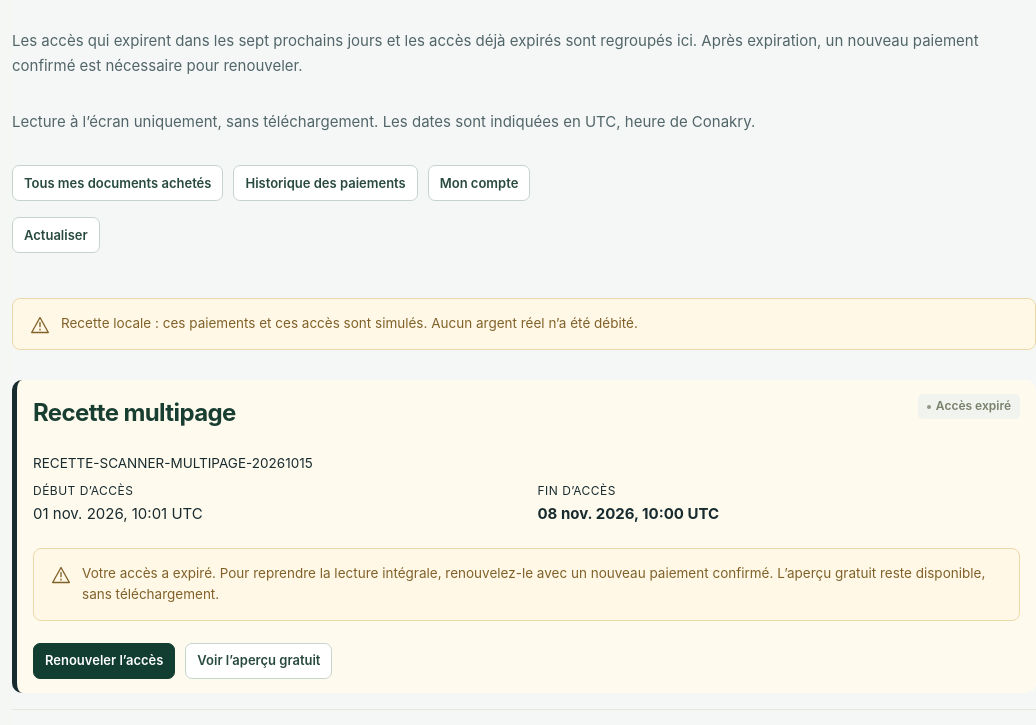
Test: le rappel disparaît après confirmation serveur du renouvellement
Click the button "Renouveler l’accès".
click(104, 661)  # box [33, 643, 175, 679]
(page scrolled)
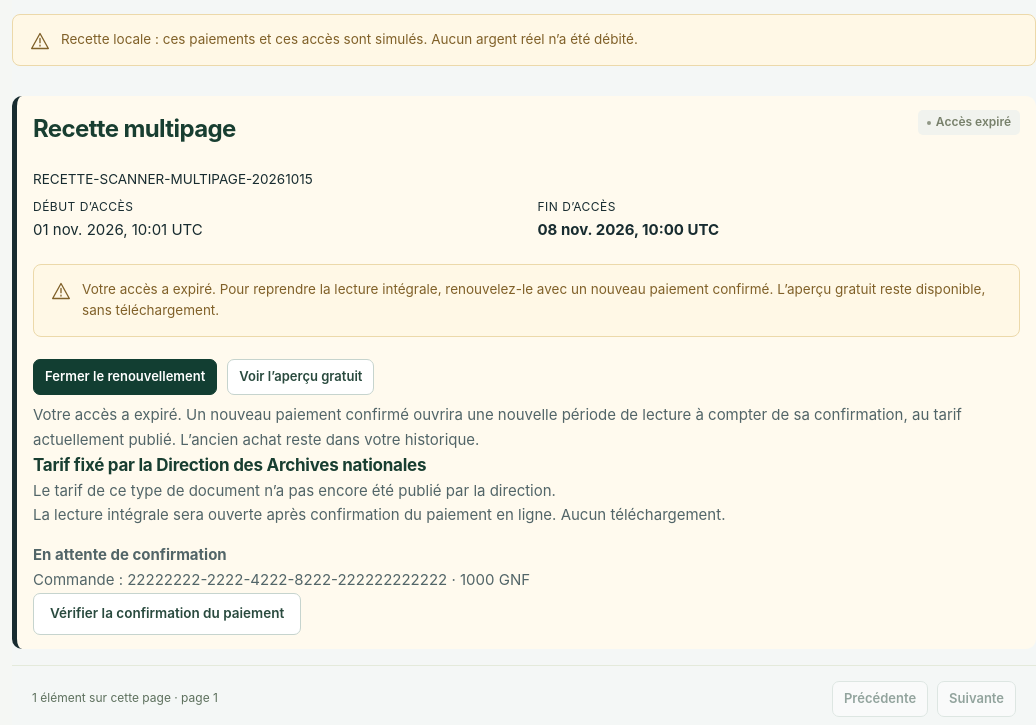
Click the button "Vérifier la confirmation du paiement".
click(167, 614)  # box [33, 593, 301, 635]
(page scrolled)
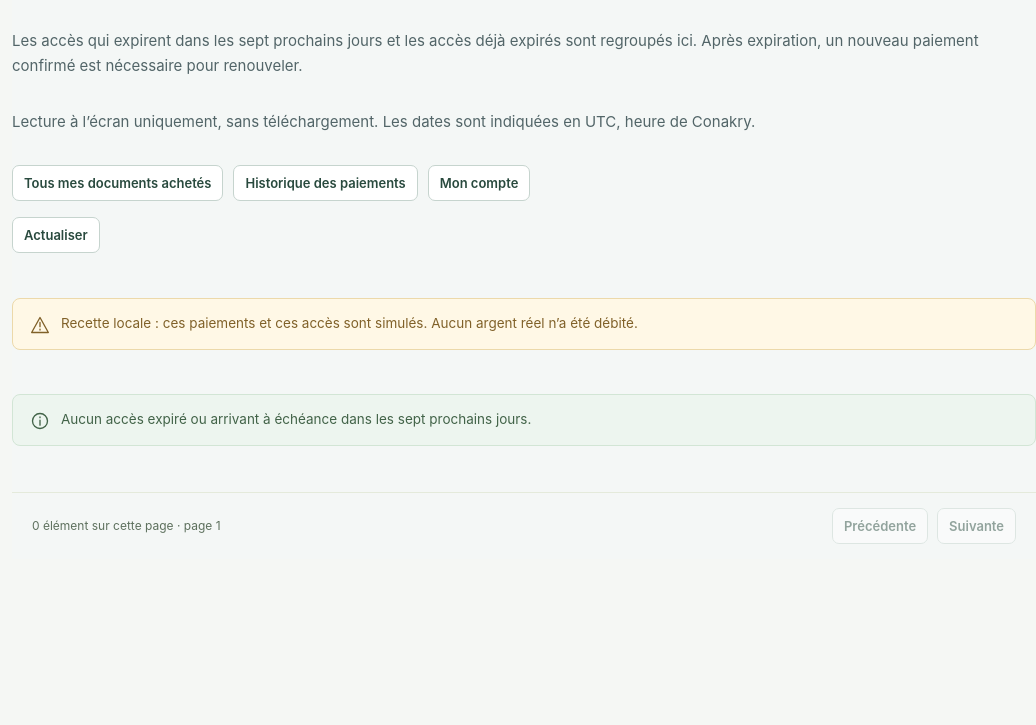
Expected: the text "Aucun accès expiré ou arrivant à échéance dans les sept prochains jours." is shown, [61, 409, 531, 431]
